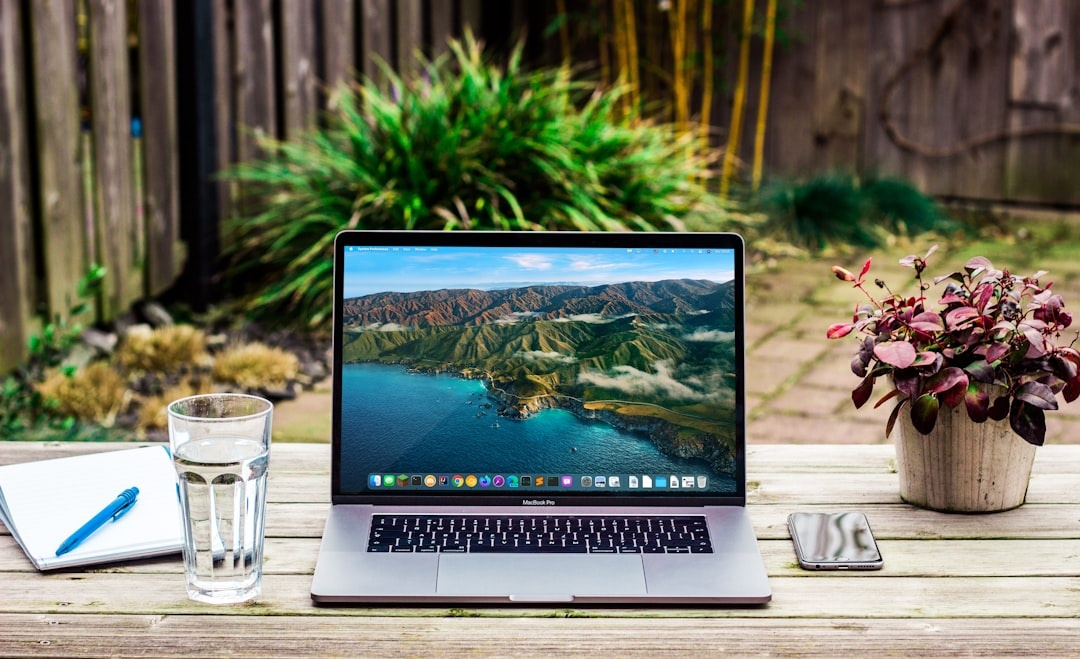laptop: (294, 210, 776, 617)
